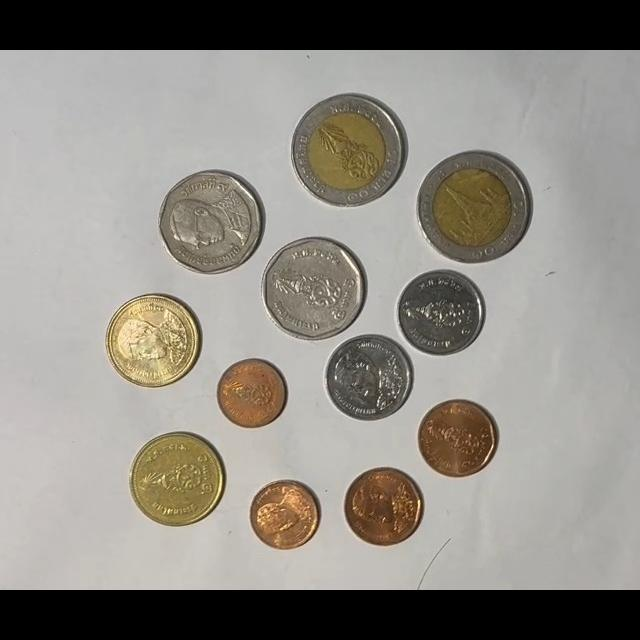1-baht: (324, 334, 413, 423), (397, 269, 486, 357)
10-baht: (291, 93, 407, 209), (417, 150, 531, 264)
2-baht: (129, 431, 226, 527), (105, 293, 200, 389)
25-satang: (249, 480, 320, 551), (216, 358, 287, 428)
5-baht: (261, 236, 367, 341), (158, 170, 264, 275)
50-satang: (417, 399, 498, 478), (344, 468, 424, 547)
